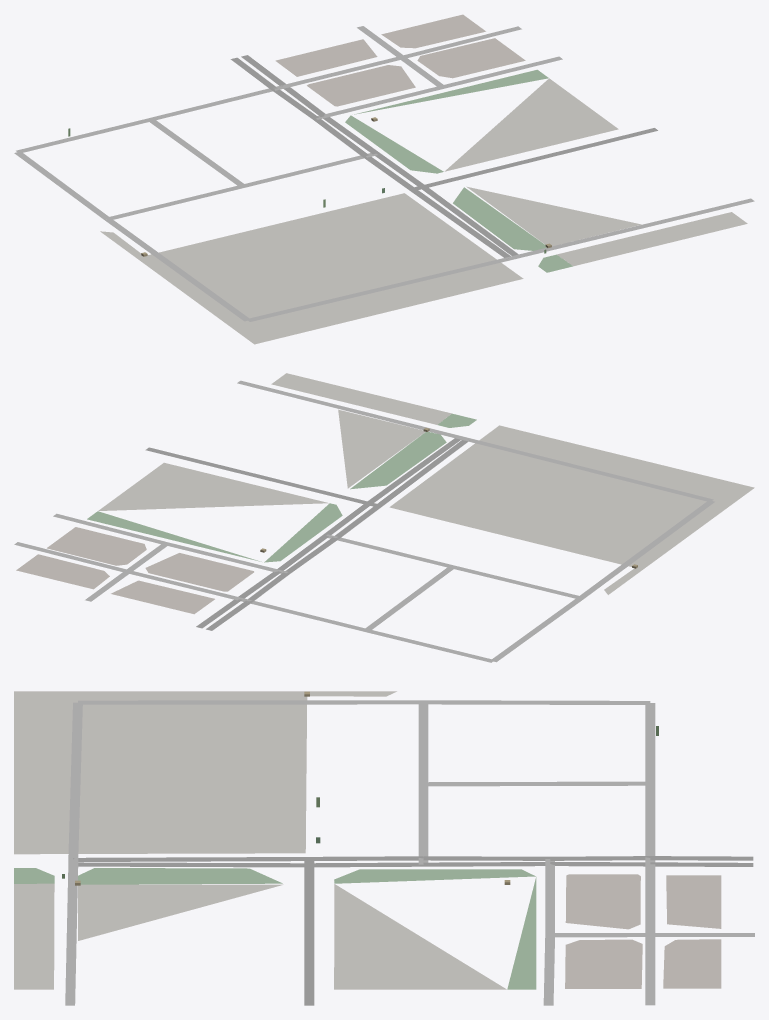
3 renders of one model, top to bottom at view 1: azimuth 30°, elevation 25°; view 2: azimuth 150°, elevation 25°; view 3: azimuth 270°, elevation 25°, orthographic. The views are drawn at different scales.
Bounding box in the file's own units: 529 × 8.13 × 524.
